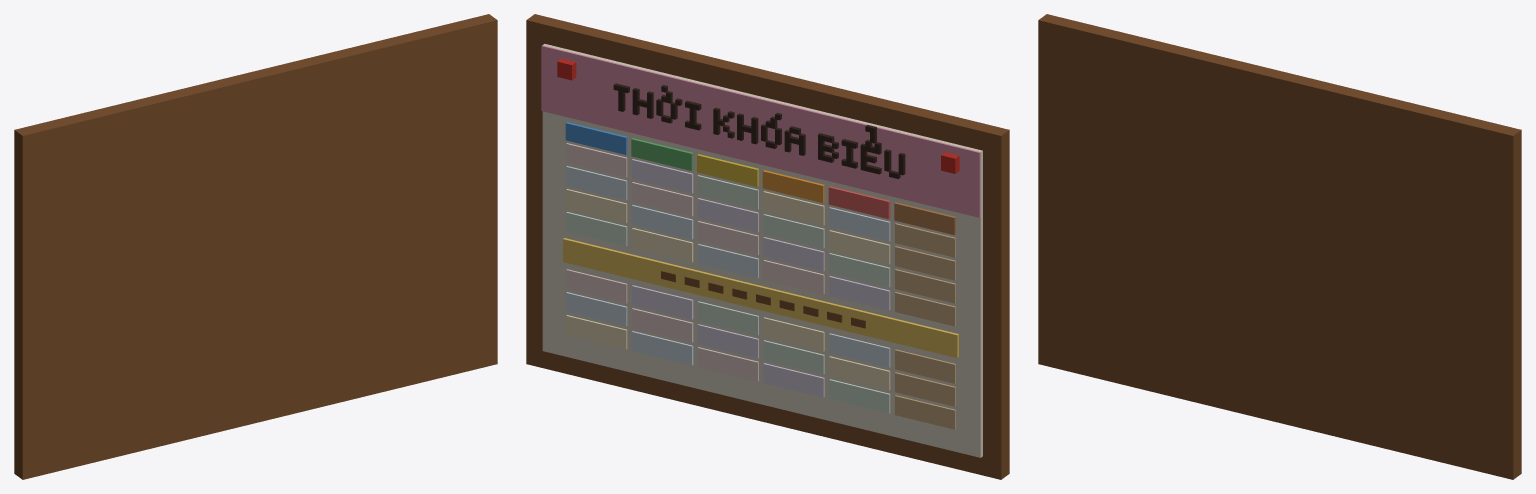
The model's file is ncb-timetable-board.glb.
3 renders of one model, left to right at view 1: azimuth 30°, elevation 25°; view 2: azimuth 150°, elevation 25°; view 3: azimuth 330°, elevation 25°, orthographic.
Visible parts, largest first — view 1: box-prop; view 2: box-prop; view 3: box-prop.
Boxes of the visible parts, bbox=[...] form: box-prop: bbox=[14, 14, 497, 479]; box-prop: bbox=[526, 14, 1009, 479]; box-prop: bbox=[1038, 14, 1521, 479].
Bounding box in the file's own units: 2.6 × 1.8 × 0.15.
